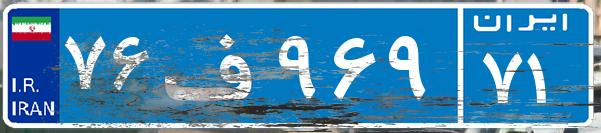1: (525, 38, 570, 115)
6: (330, 28, 385, 110), (110, 28, 158, 105)
7: (57, 26, 110, 107), (475, 38, 525, 113)
9: (385, 28, 445, 110), (273, 28, 330, 110)
ف: (158, 15, 273, 115)
